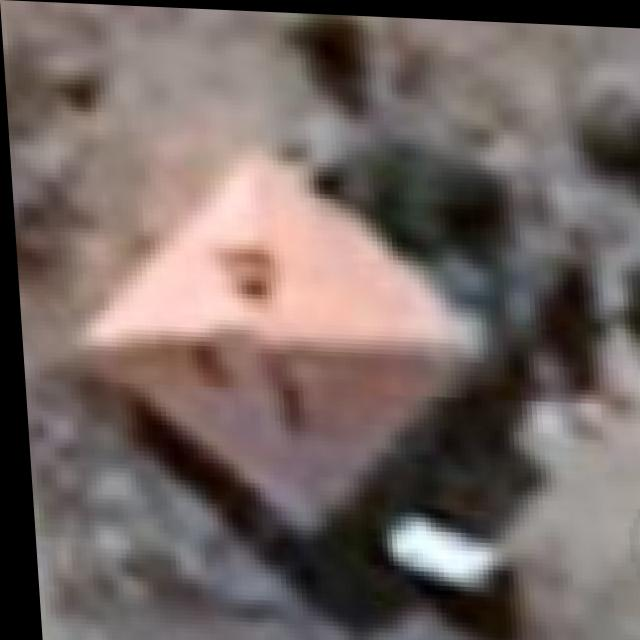Batiment: (82, 154, 466, 527)
